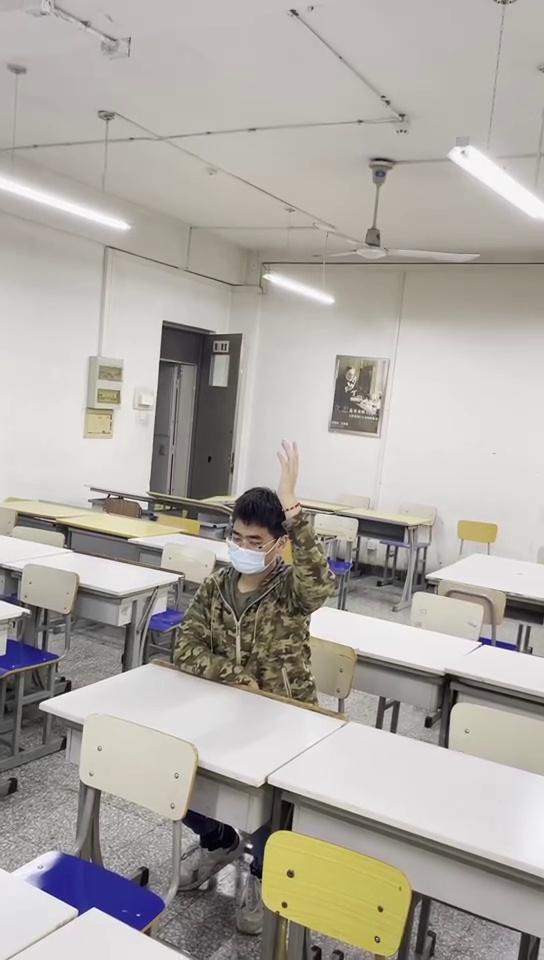study: (177, 442, 334, 698)
